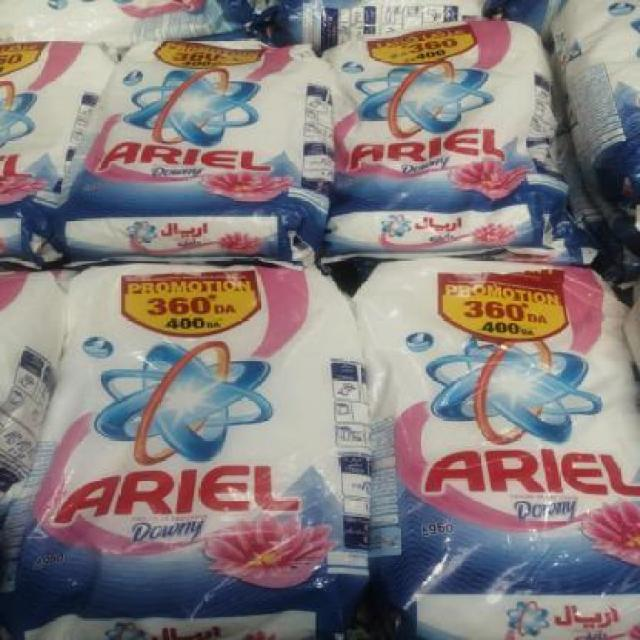Detergent: (19, 257, 361, 621), (366, 256, 637, 638), (63, 25, 332, 250), (328, 12, 564, 255)
